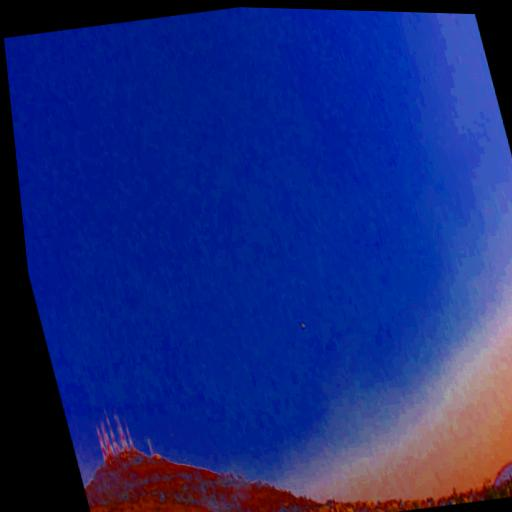drones: (297, 319, 307, 331)
